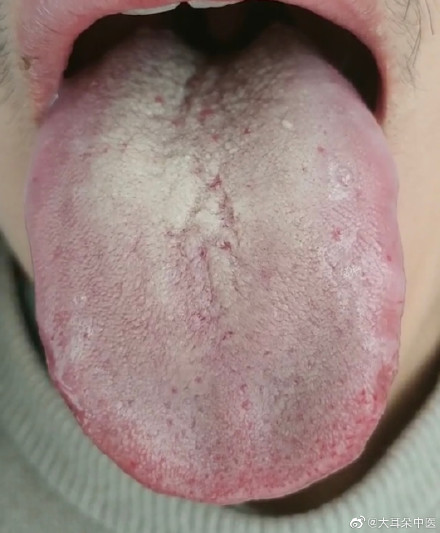baitaishe: (25, 25, 407, 504)
hongdianshe: (167, 382, 180, 399), (150, 91, 163, 107), (383, 251, 394, 265)
